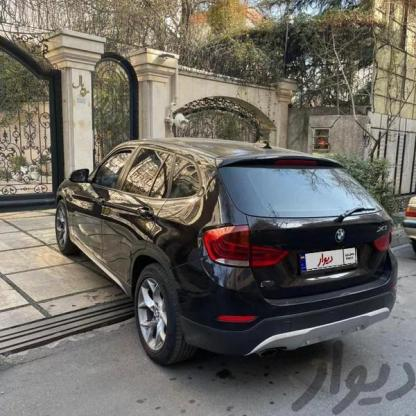Car: (47, 123, 395, 383), (392, 198, 416, 261)
